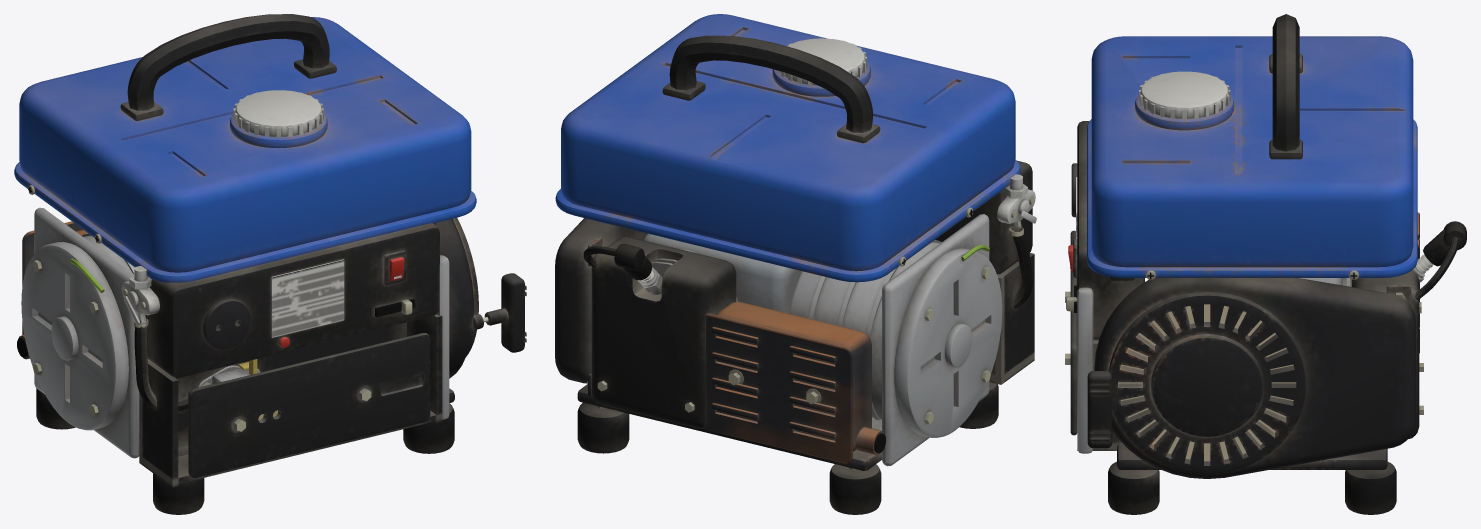
3 views of the same model, side by side, from view 1: azimuth 30°, elevation 25°; view 2: azimuth 150°, elevation 25°; view 3: azimuth 270°, elevation 25° (orthographic).
Visible parts, largest first — view 1: fuel_tank, base_panel.001, air_filter_cover.001, alternator_cover, base_frame, base_alternator, recoil_starter, recoil_starter.handle.mesh, fuel_tap, fuel_hose, muffler, carburetor.001; view 2: fuel_tank, base_engine, muffler, alternator_cover, base_alternator, base_frame, recoil_starter, base_panel.001, fuel_tap, plug_cap, fuel_hose; view 3: fuel_tank, recoil_starter, base_frame, base_panel.001, recoil_starter.handle.mesh, base_engine, plug_cap, air_filter_cover.001.
Part boxes in pixels (left/top/right/bottom): fuel_tank: left=14, top=14, right=476, bottom=282; base_panel.001: left=139, top=223, right=442, bottom=487; air_filter_cover.001: left=188, top=333, right=430, bottom=477; alternator_cover: left=21, top=241, right=128, bottom=430; base_frame: left=36, top=255, right=454, bottom=514; base_alternator: left=34, top=207, right=139, bottom=458; recoil_starter: left=433, top=217, right=483, bottom=378; recoil_starter.handle.mesh: left=484, top=273, right=526, bottom=352; fuel_tap: left=121, top=266, right=159, bottom=325; fuel_hose: left=133, top=318, right=188, bottom=411; muffler: left=17, top=221, right=87, bottom=359; carburetor.001: left=198, top=359, right=259, bottom=387; fuel_tank: left=555, top=14, right=1020, bottom=282; base_engine: left=591, top=233, right=801, bottom=428; muffler: left=703, top=301, right=885, bottom=463; alternator_cover: left=894, top=244, right=1002, bottom=437; base_alternator: left=789, top=214, right=989, bottom=466; base_frame: left=577, top=382, right=998, bottom=514; recoil_starter: left=555, top=218, right=647, bottom=396; base_panel.001: left=935, top=160, right=1034, bottom=384; fuel_tap: left=997, top=174, right=1036, bottom=228; plug_cap: left=583, top=243, right=651, bottom=280; fuel_hose: left=1008, top=226, right=1032, bottom=309; fuel_tank: left=1087, top=14, right=1417, bottom=277; recoil_starter: left=1094, top=277, right=1415, bottom=478; base_frame: left=1077, top=287, right=1396, bottom=514; base_panel.001: left=1066, top=121, right=1144, bottom=450; recoil_starter.handle.mesh: left=1087, top=371, right=1112, bottom=448; base_engine: left=1299, top=244, right=1423, bottom=438; plug_cap: left=1415, top=221, right=1466, bottom=300; air_filter_cover.001: left=1070, top=230, right=1077, bottom=435.
Bounding box in the file's own units: 0.3945 × 0.3961 × 0.3562.
2 materials, 2 textured.
